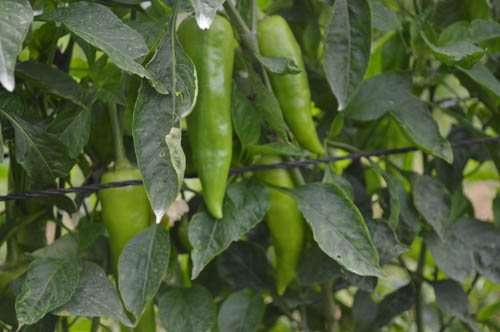ChiliPepper: (174, 16, 234, 218), (256, 16, 323, 156), (99, 172, 157, 332), (251, 153, 304, 300)
